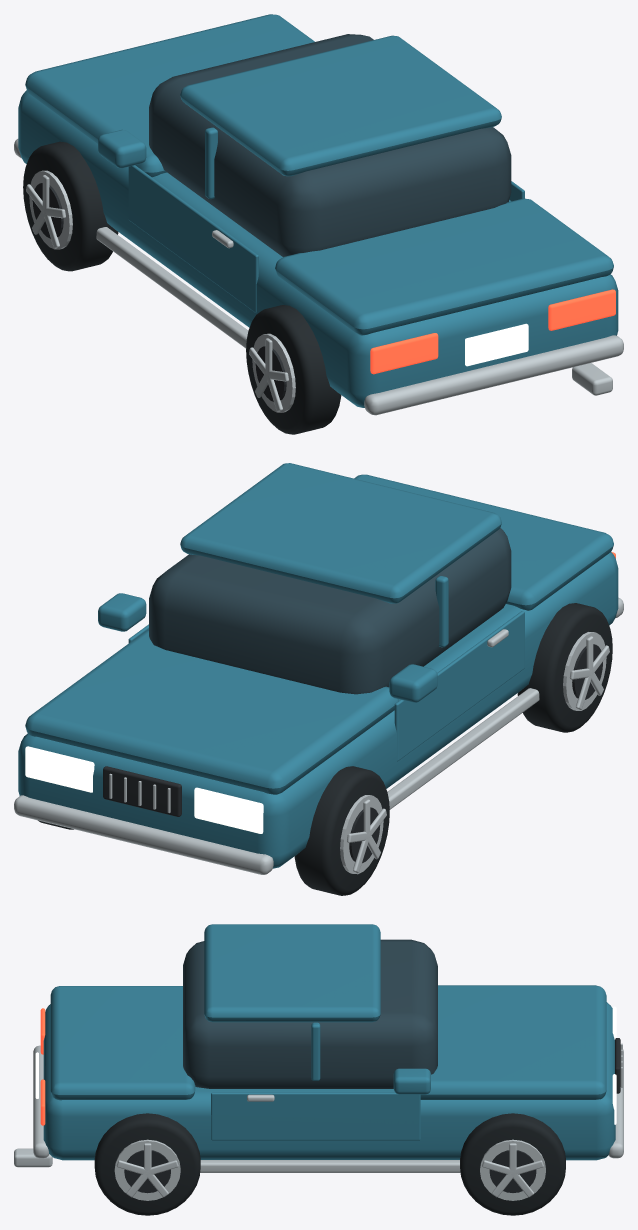
The model's file is reyes_coupe.glb.
3 renders of one model, top to bottom at view 1: azimuth 30°, elevation 25°; view 2: azimuth 150°, elevation 25°; view 3: azimuth 270°, elevation 25°, orthographic. The views are drawn at different scales.
Parts seen in each view (by area): view 1: Dark cabin, Roof, Trunk, Lower body, Hood, Door, Road tire, Road tire.001, Rear bumper, Sill, Tail lamp, Tail lamp.001 (+8 smaller); view 2: Dark cabin, Hood, Roof, Lower body, Trunk, Door, Road tire.001, Road tire, Front bumper, Sill, Radiator grille, Headlamp (+8 smaller); view 3: Dark cabin, Lower body, Hood, Roof, Trunk, Door.001, Road tire.002, Road tire.003, Sill.001, Alloy rim.003, Alloy rim.002, Rear bumper (+6 smaller).
Part boxes in pixels (x1=…): Dark cabin: x1=149, y1=34, x2=511, y2=256; Roof: x1=180, y1=35, x2=501, y2=176; Trunk: x1=275, y1=198, x2=613, y2=335; Lower body: x1=18, y1=90, x2=618, y2=407; Hood: x1=25, y1=14, x2=314, y2=177; Door: x1=128, y1=165, x2=258, y2=312; Road tire: x1=246, y1=305, x2=341, y2=434; Road tire.001: x1=23, y1=141, x2=118, y2=271; Rear bumper: x1=364, y1=335, x2=623, y2=415; Sill: x1=96, y1=227, x2=248, y2=348; Tail lamp: x1=370, y1=333, x2=438, y2=374; Tail lamp.001: x1=548, y1=289, x2=615, y2=330; Dark cabin: x1=149, y1=527, x2=511, y2=694; Hood: x1=25, y1=630, x2=399, y2=794; Roof: x1=180, y1=463, x2=501, y2=603; Lower body: x1=18, y1=552, x2=618, y2=868; Trunk: x1=354, y1=474, x2=613, y2=610; Door: x1=394, y1=611, x2=524, y2=761; Road tire.001: x1=294, y1=766, x2=389, y2=895; Road tire: x1=517, y1=603, x2=612, y2=732; Front bumper: x1=14, y1=795, x2=273, y2=874; Sill: x1=387, y1=688, x2=539, y2=809; Radiator grille: x1=103, y1=766, x2=181, y2=816; Headlamp: x1=194, y1=787, x2=263, y2=833; Dark cabin: x1=183, y1=939, x2=437, y2=1088; Lower body: x1=43, y1=1002, x2=615, y2=1160; Hood: x1=420, y1=985, x2=606, y2=1099; Roof: x1=204, y1=924, x2=380, y2=1022; Trunk: x1=50, y1=986, x2=195, y2=1100; Door.001: x1=211, y1=1092, x2=420, y2=1140; Road tire.002: x1=94, y1=1113, x2=200, y2=1215; Road tire.003: x1=460, y1=1113, x2=565, y2=1215; Sill.001: x1=200, y1=1160, x2=460, y2=1172; Alloy rim.003: x1=480, y1=1139, x2=545, y2=1200; Alloy rim.002: x1=114, y1=1139, x2=180, y2=1200; Rear bumper: x1=33, y1=1045, x2=48, y2=1158.
Bounding box in the file's own units: 2.23 × 1.53 × 4.43.
